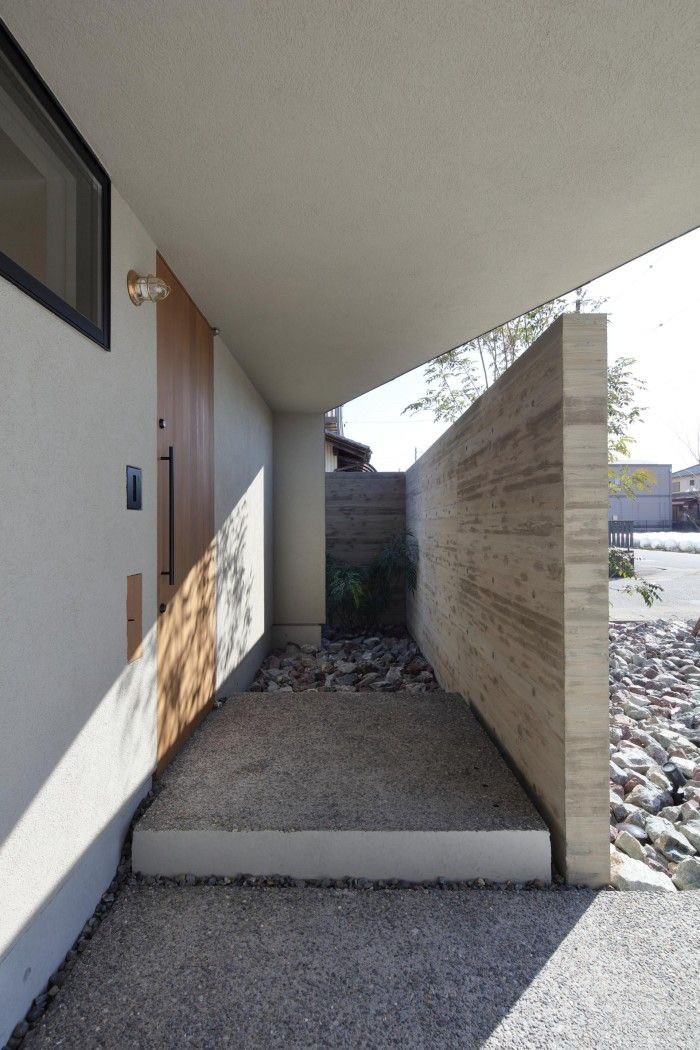floor: (2, 845, 699, 1049)
